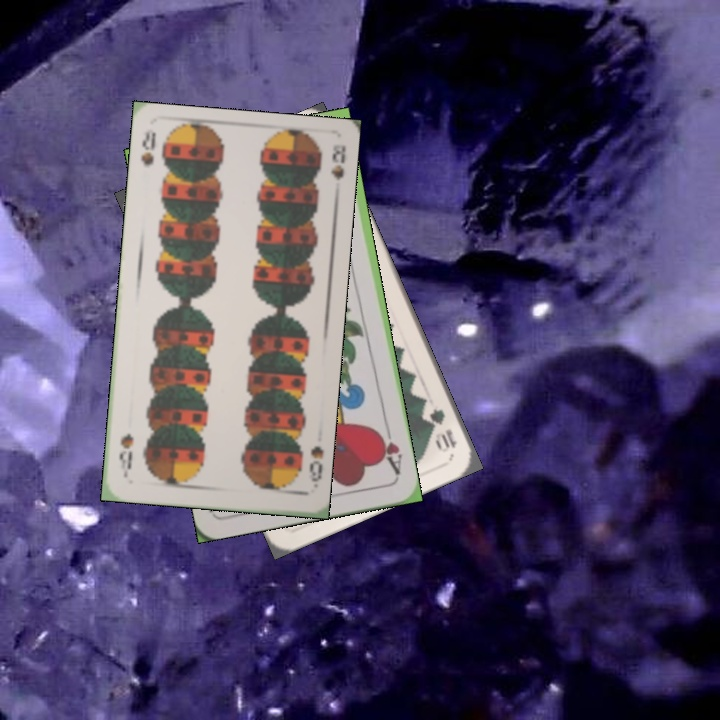G10: (424, 404, 459, 451)
HA: (373, 420, 405, 478)
S8: (305, 441, 326, 491), (137, 127, 159, 169)
